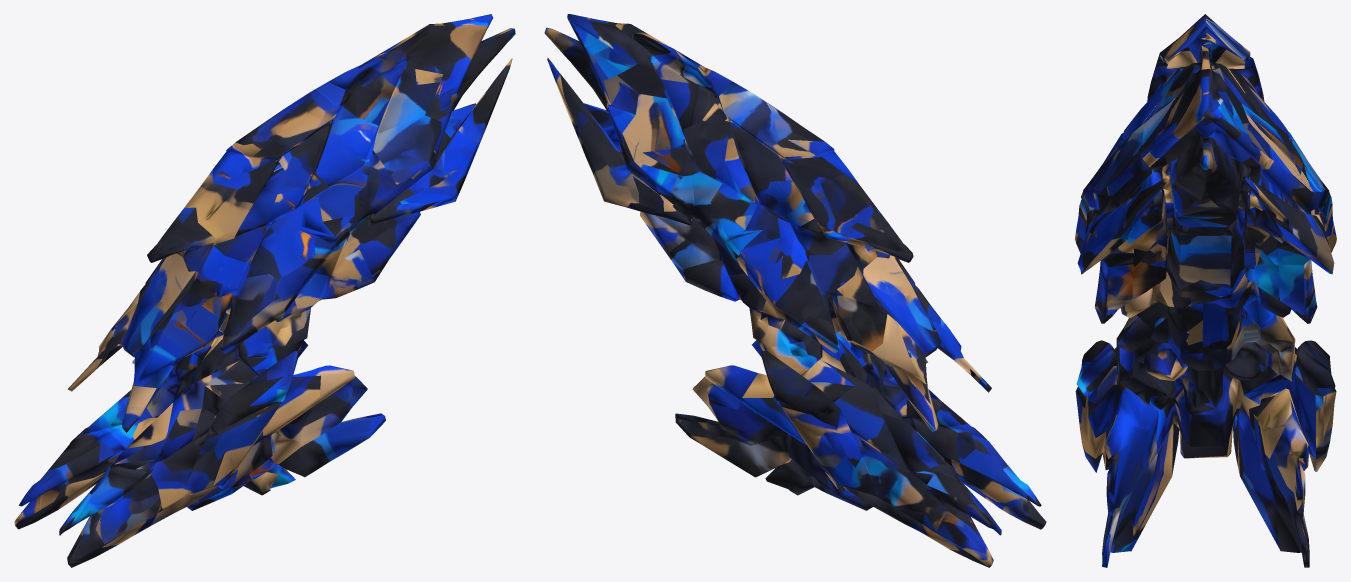
File: DefenseFrontLeft.gltf
The picture shows the model from 3 angles, left to right: view 1: azimuth 30°, elevation 25°; view 2: azimuth 150°, elevation 25°; view 3: azimuth 270°, elevation 25°; orthographic projection. The views are drawn at different scales.
Parts seen in each view (by area): view 1: DefenseFrontLeft; view 2: DefenseFrontLeft; view 3: DefenseFrontLeft.
Boxes of the visible parts, x1,y1,x2,y2 form: DefenseFrontLeft: [14, 14, 515, 567]; DefenseFrontLeft: [544, 14, 1046, 567]; DefenseFrontLeft: [1075, 14, 1336, 567].
Size of the model in its own units: 0.3551 by 0.3059 by 0.1059.
1 material, 1 textured.
